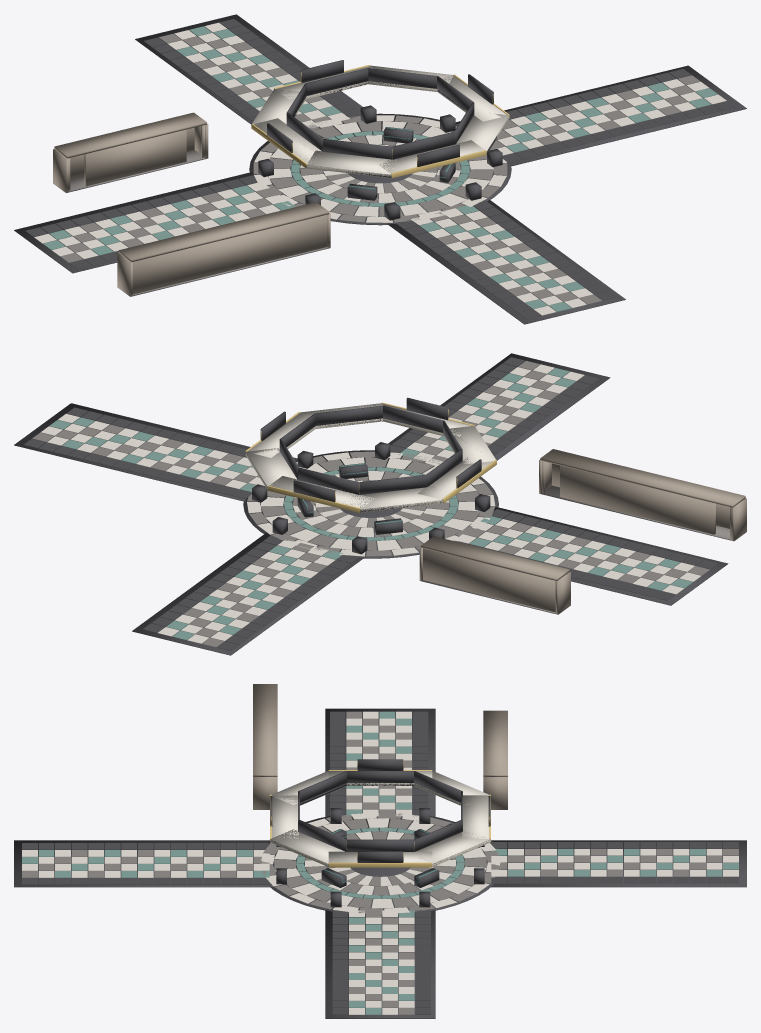
File: pavimentazione.glb
3 views of the same model, one above another, from view 1: azimuth 30°, elevation 25°; view 2: azimuth 150°, elevation 25°; view 3: azimuth 270°, elevation 25° (orthographic). The views are drawn at different scales.
Parts seen in each view (by area): view 1: pavimento, rc_31_ext, rc_30_int1, base_braccio_180, rc_31_soff, base_braccio_90, base_braccio_270, base_braccio_0, base_rotonda, rc_30_soff, deck_top_2, deck_top_1 (+16 smaller); view 2: pavimento, rc_31_int1, rc_30_ext, base_braccio_0, rc_31_soff, base_braccio_90, base_braccio_270, base_braccio_180, base_rotonda, rc_30_soff, deck_top_3, deck_top_2 (+15 smaller); view 3: pavimento, base_braccio_0, base_braccio_90, base_braccio_180, rc_31_soff, base_rotonda, base_braccio_270, rc_30_soff, ponte_top_0, ponte_top_2, deck_top_1, deck_top_0 (+13 smaller).
Boxes of the visible parts, <box> form: pavimento: <box>25,19,735,319</box>; rc_31_ext: <box>133,214,327,294</box>; rc_30_int1: <box>84,129,186,186</box>; base_braccio_180: <box>387,200,625,324</box>; rc_31_soff: <box>118,202,329,262</box>; base_braccio_90: <box>455,65,746,166</box>; base_braccio_270: <box>14,172,296,273</box>; base_braccio_0: <box>135,14,362,128</box>; base_rotonda: <box>249,113,511,225</box>; rc_30_soff: <box>54,112,206,158</box>; deck_top_2: <box>306,150,397,175</box>; deck_top_1: <box>456,113,509,150</box>; pavimento: <box>24,357,718,650</box>; rc_31_int1: <box>560,465,715,534</box>; rc_30_ext: <box>423,548,555,612</box>; base_braccio_0: <box>132,532,364,655</box>; rc_31_soff: <box>540,449,745,507</box>; base_braccio_90: <box>14,403,297,501</box>; base_braccio_270: <box>468,506,728,605</box>; base_braccio_180: <box>388,353,610,463</box>; base_rotonda: <box>243,450,498,558</box>; rc_30_soff: <box>421,536,569,580</box>; deck_top_3: <box>352,486,442,510</box>; deck_top_2: <box>450,426,495,464</box>; pavimento: <box>22,711,738,1014</box>; base_braccio_0: <box>491,840,746,887</box>; base_braccio_90: <box>325,908,435,1018</box>; base_braccio_180: <box>14,840,273,887</box>; rc_31_soff: <box>253,684,277,776</box>; base_rotonda: <box>267,812,503,915</box>; base_braccio_270: <box>325,708,435,817</box>; rc_30_soff: <box>483,710,507,776</box>; ponte_top_0: <box>462,795,489,838</box>; ponte_top_2: <box>271,795,298,838</box>; deck_top_1: <box>270,829,344,863</box>; deck_top_0: <box>416,832,490,864</box>.
Bounding box in the file's own units: 63.8 × 5.6 × 63.8.
